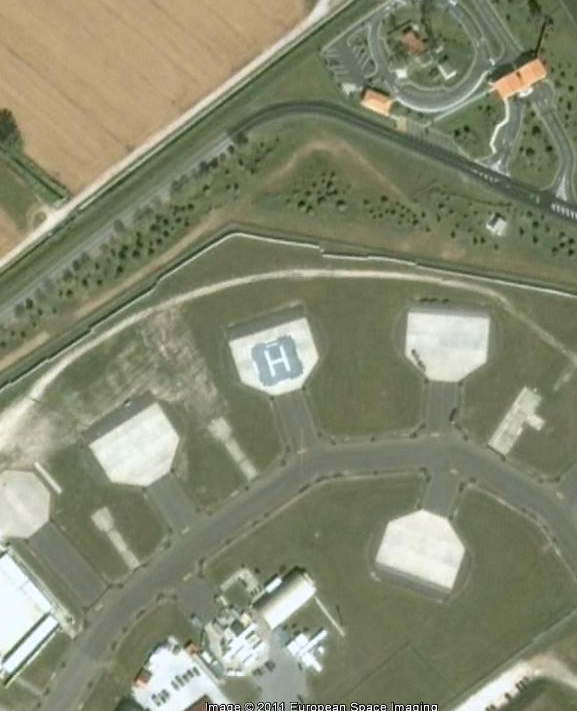heliport: (261, 343, 293, 379)
